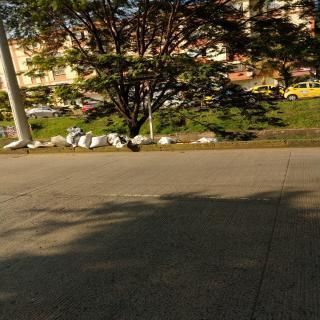Garbage: (65, 125, 84, 147), (3, 138, 32, 149), (78, 131, 94, 150), (132, 135, 157, 146), (50, 136, 71, 148), (158, 136, 185, 145), (90, 135, 109, 147)
